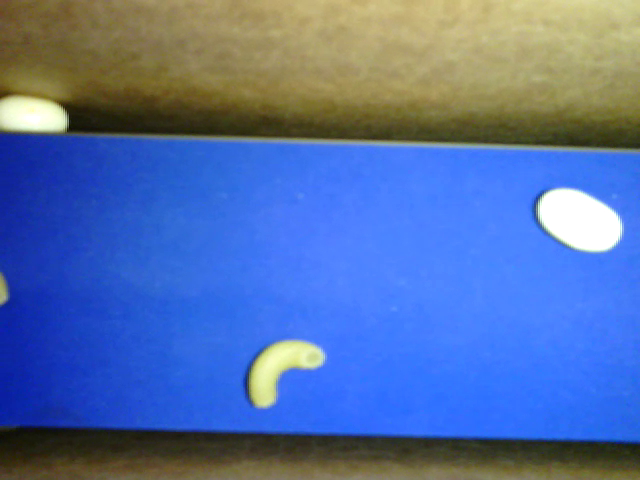elbow: (245, 340, 326, 408)
